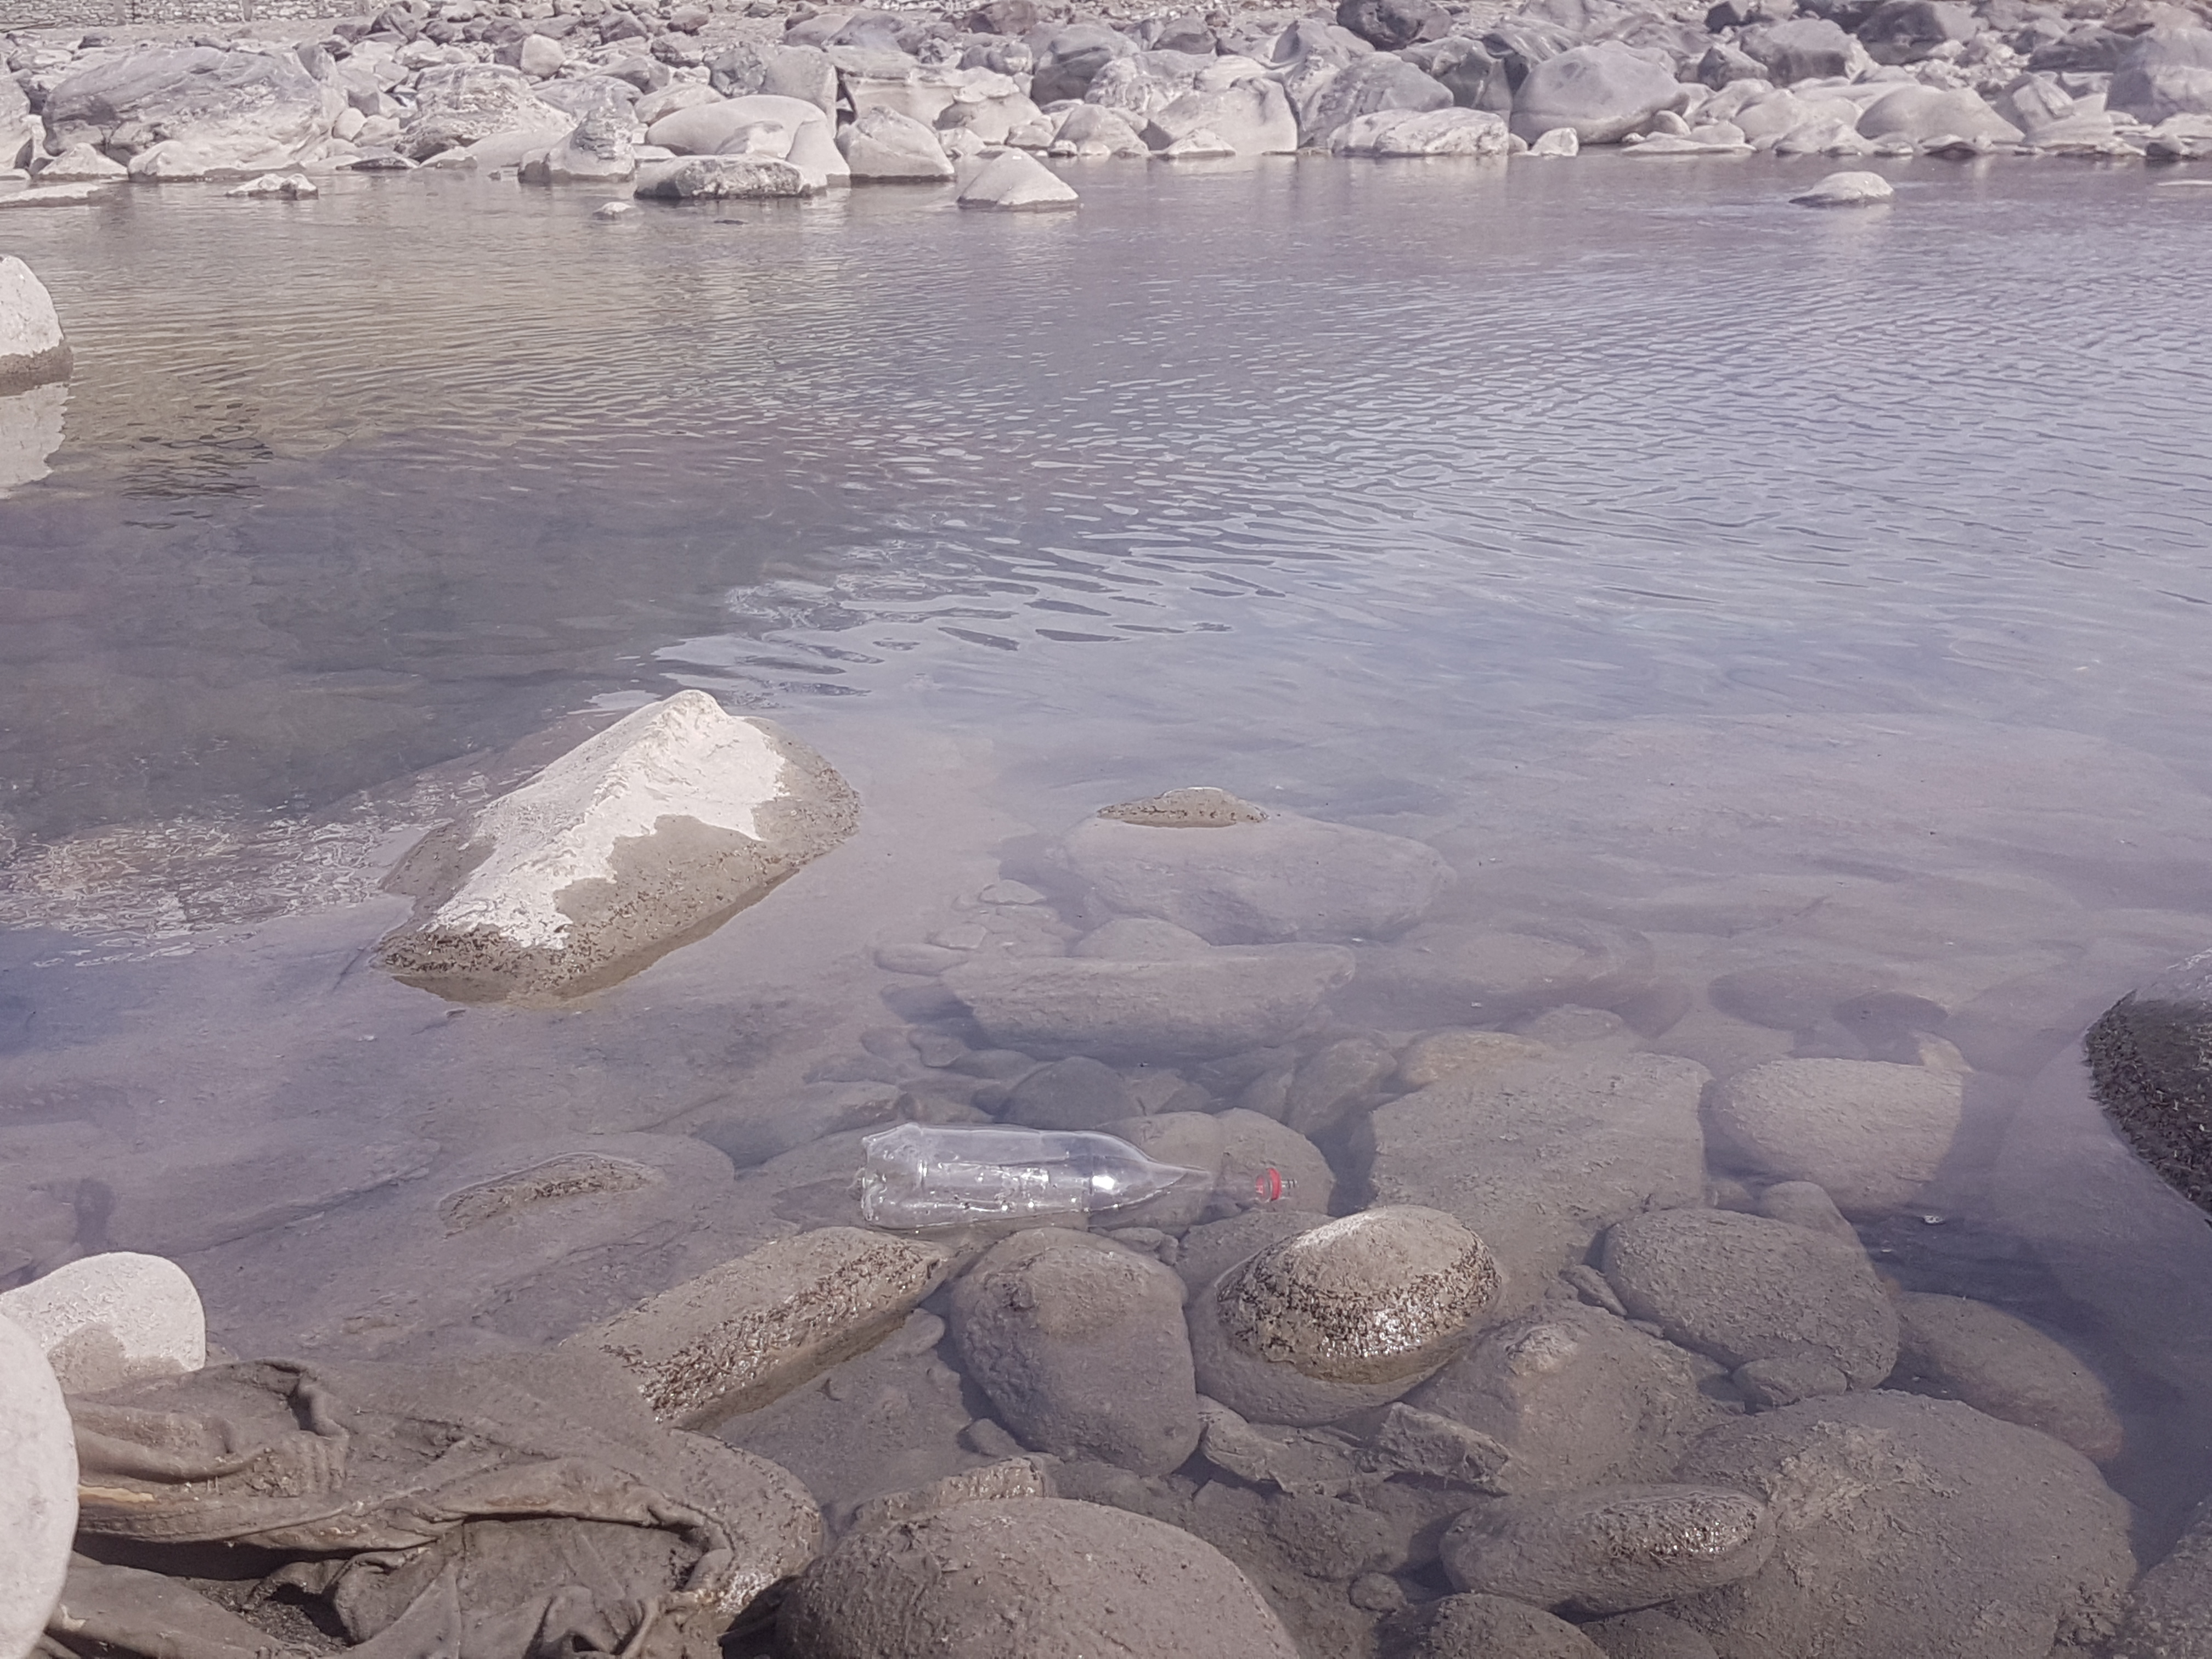Plastic Bottle: (855, 1122, 1301, 1229)
